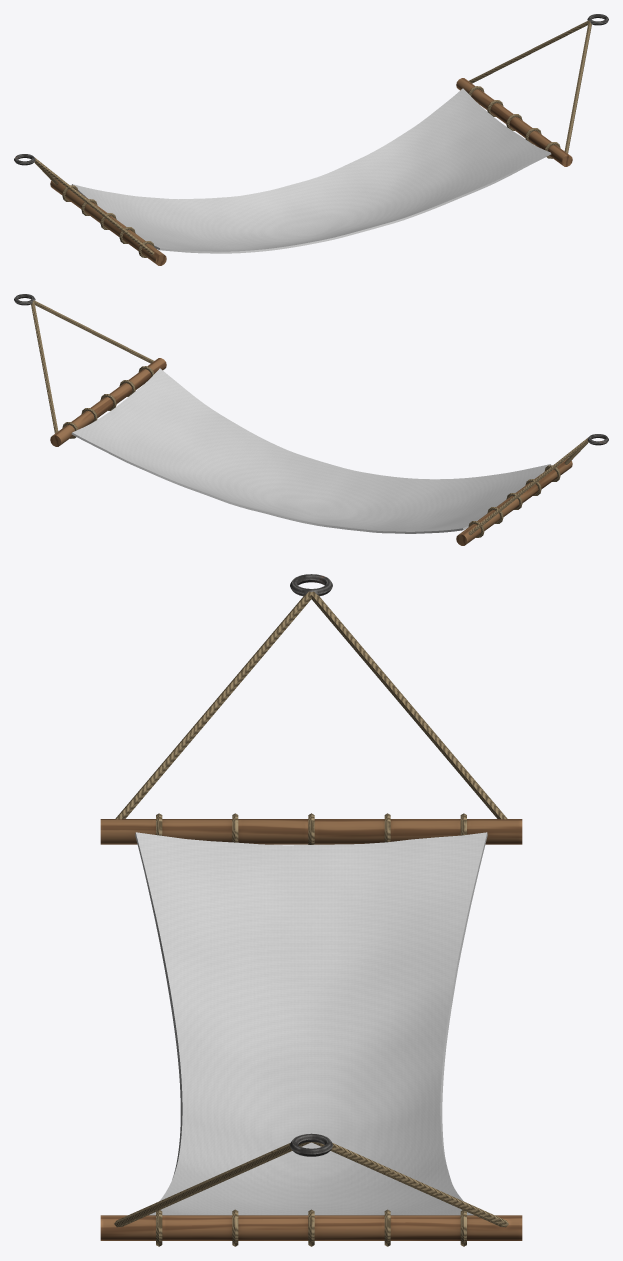
File: bed_hammock.glb
The picture shows the model from 3 angles, top to bottom: view 1: azimuth 30°, elevation 25°; view 2: azimuth 150°, elevation 25°; view 3: azimuth 270°, elevation 25°; orthographic projection. The views are drawn at different scales.
Visible parts, largest first — view 1: bed_hammock; view 2: bed_hammock; view 3: bed_hammock.
Boxes of the visible parts, x1,y1,x2,y2 form: bed_hammock: (14, 14, 608, 265); bed_hammock: (14, 294, 608, 545); bed_hammock: (100, 574, 522, 1246).
Bounding box in the file's own units: 2.33 × 0.5331 × 0.72.
3 materials, 3 textured.
